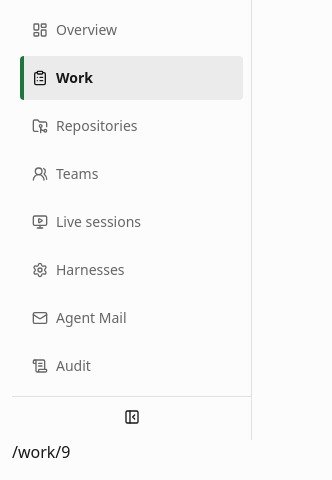
navigation hierarchy preserves destinations and actions › preserves descendant active state, collapsed accessible names and the saved native preference
Click the button named "Collapse sidebar" at [132, 418], box [12, 396, 251, 440]
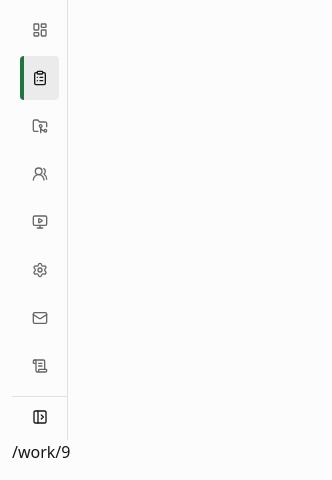
Expected: the button named "Expand sidebar" is shown, [12, 396, 67, 440]
Click the link named "Harnesses" at [40, 270], box [32, 262, 48, 278]
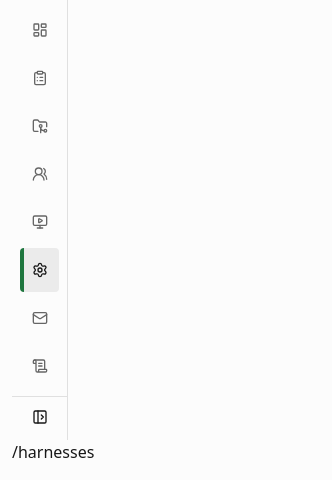
Expected: the text named "Current route" reads "/harnesses", [12, 441, 94, 463]
